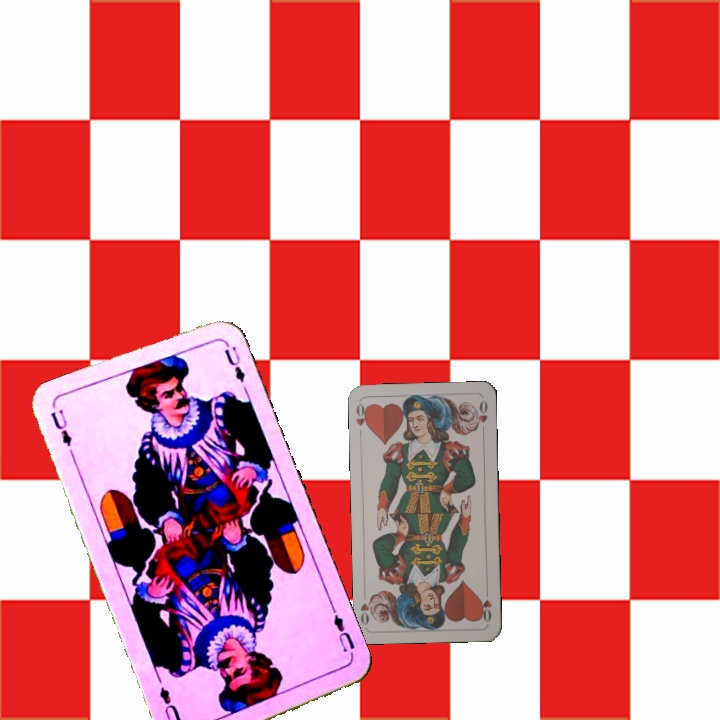EU: (329, 607, 358, 655), (47, 405, 75, 449)
HO: (351, 400, 371, 440), (477, 585, 494, 624)
